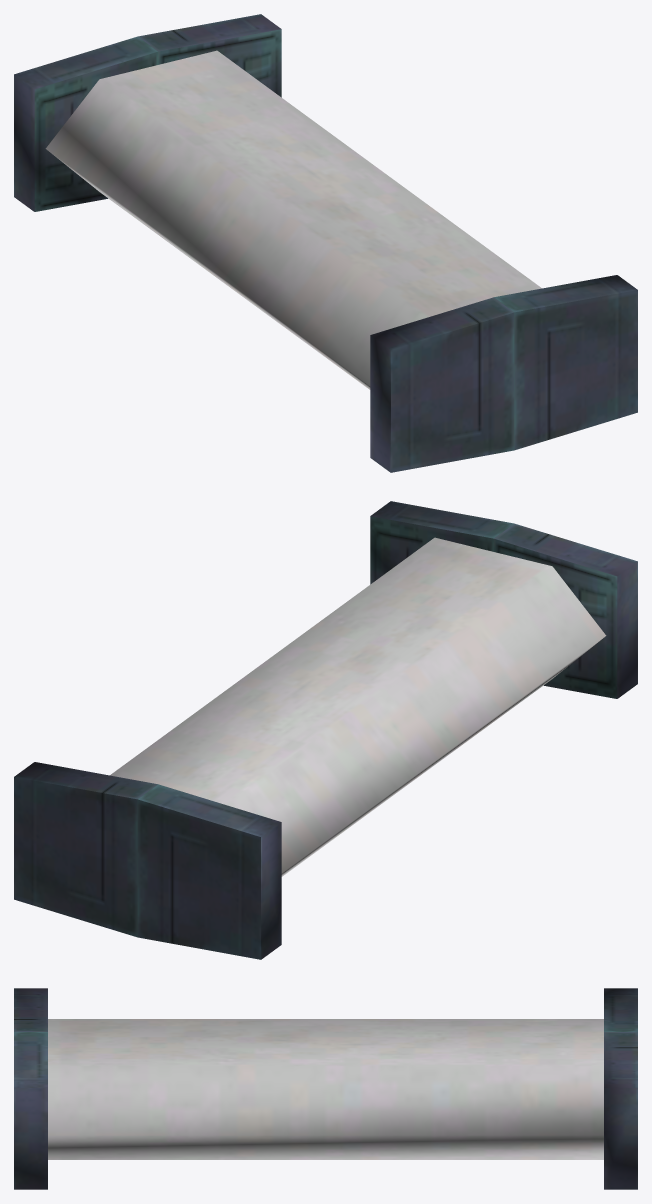
File: eqp_jedi_sith_scroll_s1_l1.fbx
The picture shows the model from 3 angles, top to bottom: view 1: azimuth 30°, elevation 25°; view 2: azimuth 150°, elevation 25°; view 3: azimuth 270°, elevation 25°; orthographic projection. The views are drawn at different scales.
Parts seen in each view (by area): view 1: mesh_node; view 2: mesh_node; view 3: mesh_node.
Part boxes in pixels (bbox=[...]): mesh_node: bbox=[14, 14, 637, 472]; mesh_node: bbox=[14, 501, 637, 959]; mesh_node: bbox=[14, 988, 637, 1189].
Bounding box in the file's own units: 0.1042 × 0.0556 × 0.2751.
